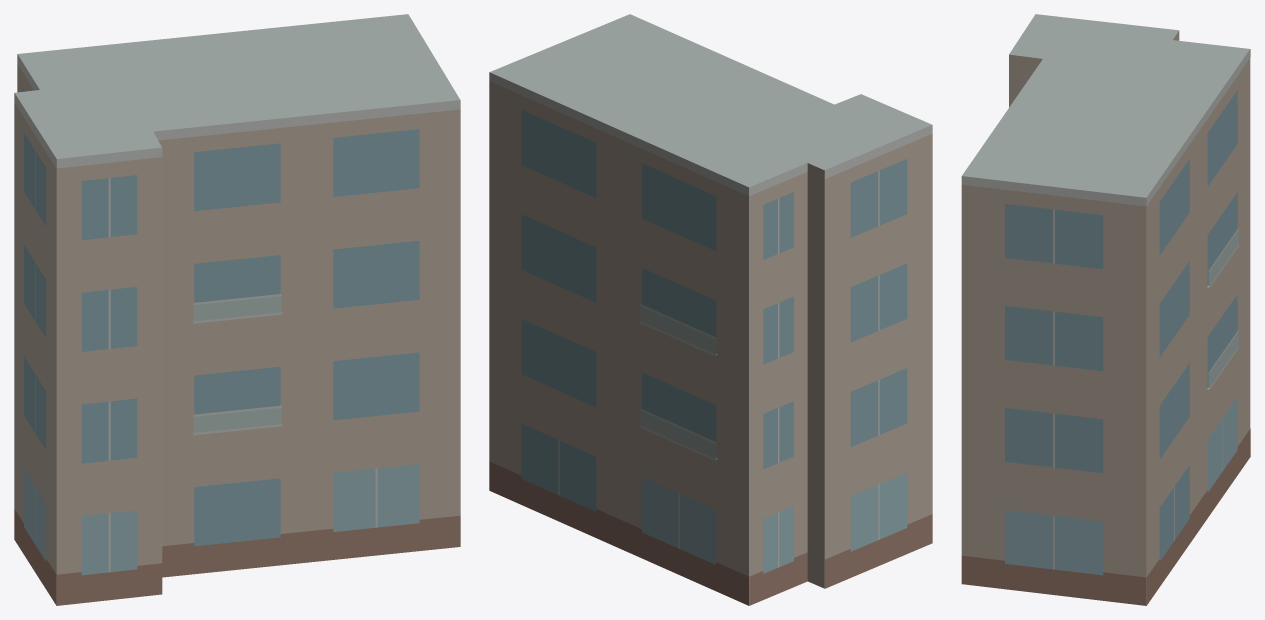
File: survey-upis-32496459.glb
3 renders of one model, left to right at view 1: azimuth 30°, elevation 25°; view 2: azimuth 150°, elevation 25°; view 3: azimuth 270°, elevation 25°, orthographic. The views are drawn at different scales.
Visible parts, largest first — view 1: survey-upis-32496459.tmp; view 2: survey-upis-32496459.tmp; view 3: survey-upis-32496459.tmp.
Part boxes in pixels (<box>): survey-upis-32496459.tmp: <box>14,14,460,605</box>; survey-upis-32496459.tmp: <box>489,14,932,605</box>; survey-upis-32496459.tmp: <box>961,14,1250,605</box>.
Size of the model in its own units: 11.22 by 11.6 by 7.45.
